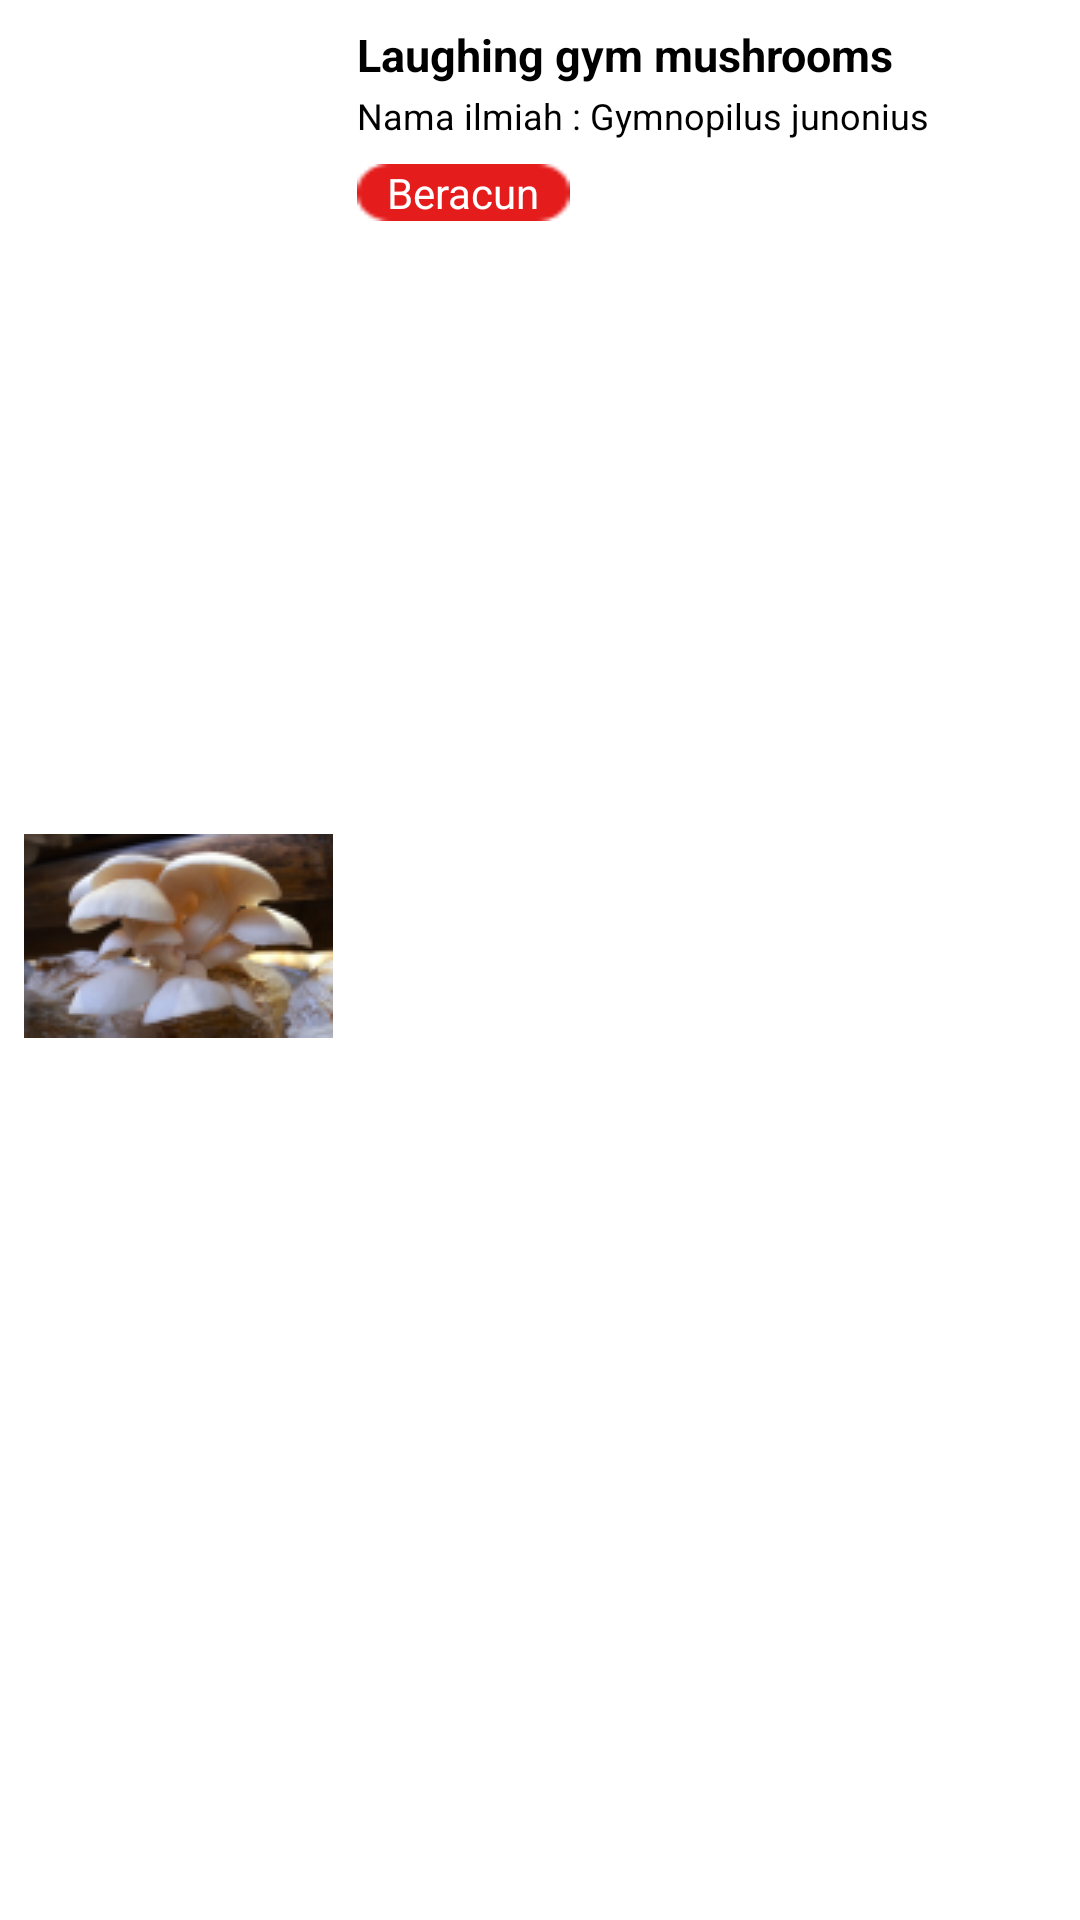

Icons on this 1080*1920 Android screen, each with the point to tap as [x,y]:
jamur: [178,936]
